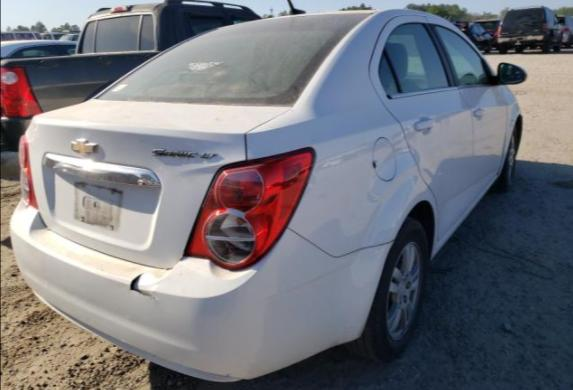Broken part: (9, 199, 393, 384)
Missing part: (74, 182, 122, 231)
